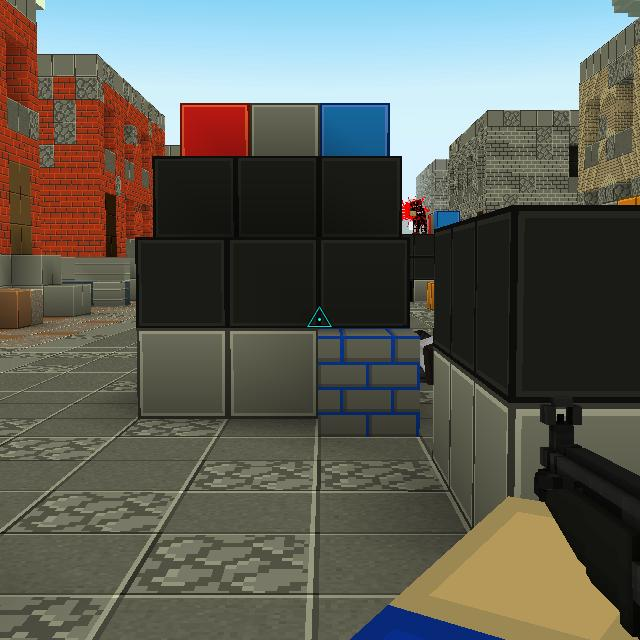enemy: (409, 199, 428, 234)
